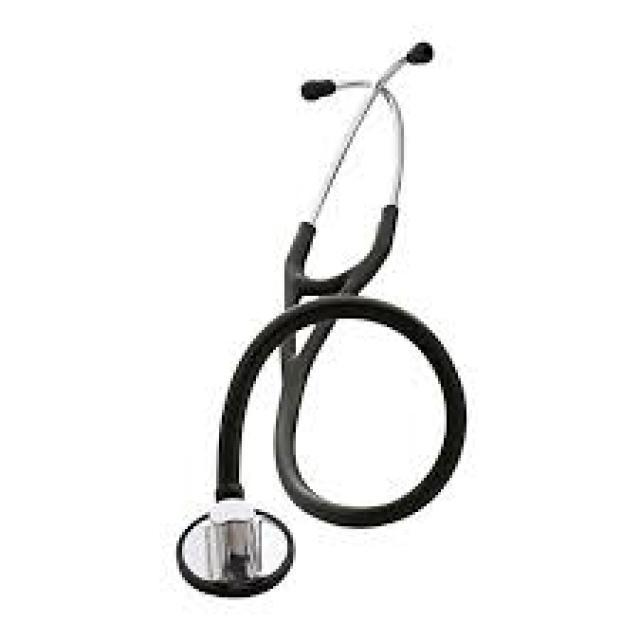stethoscope: (135, 28, 515, 583)
